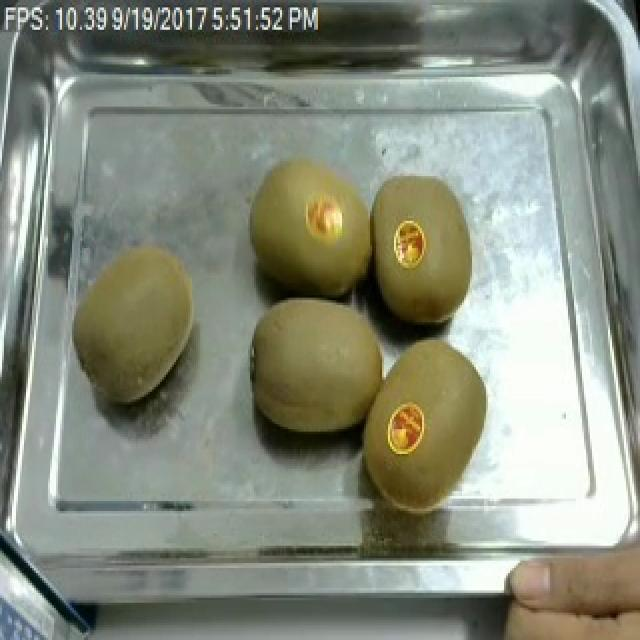Fruit: (354, 327, 502, 521), (66, 233, 202, 412), (242, 285, 396, 442), (244, 146, 372, 305), (488, 521, 640, 640), (374, 191, 482, 335)
